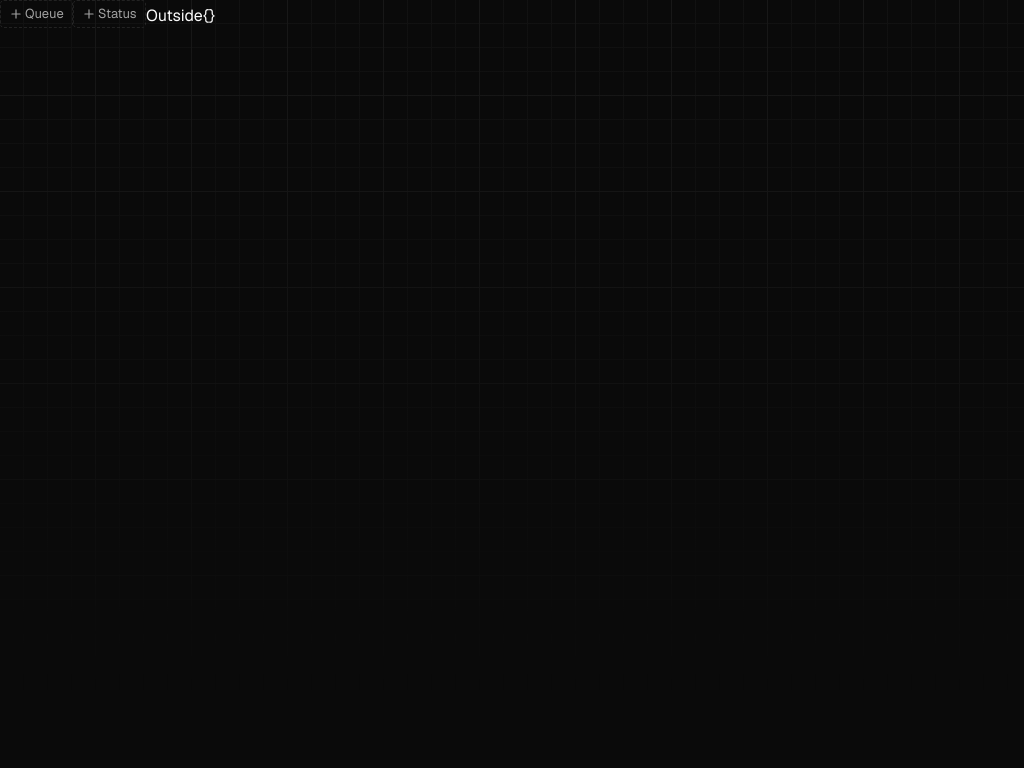
Test case: search › [T] shows 'No matches' when nothing matches
Click the button "Queue": click(48, 14) [25,1,72,27]
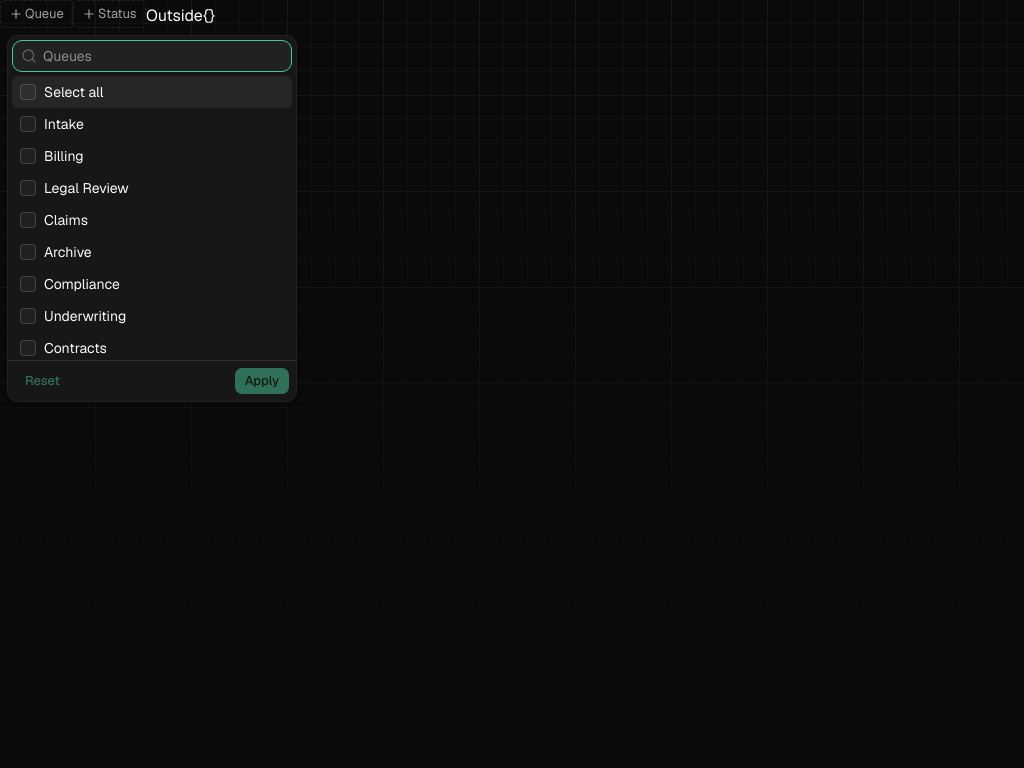
Type keys "zzz"
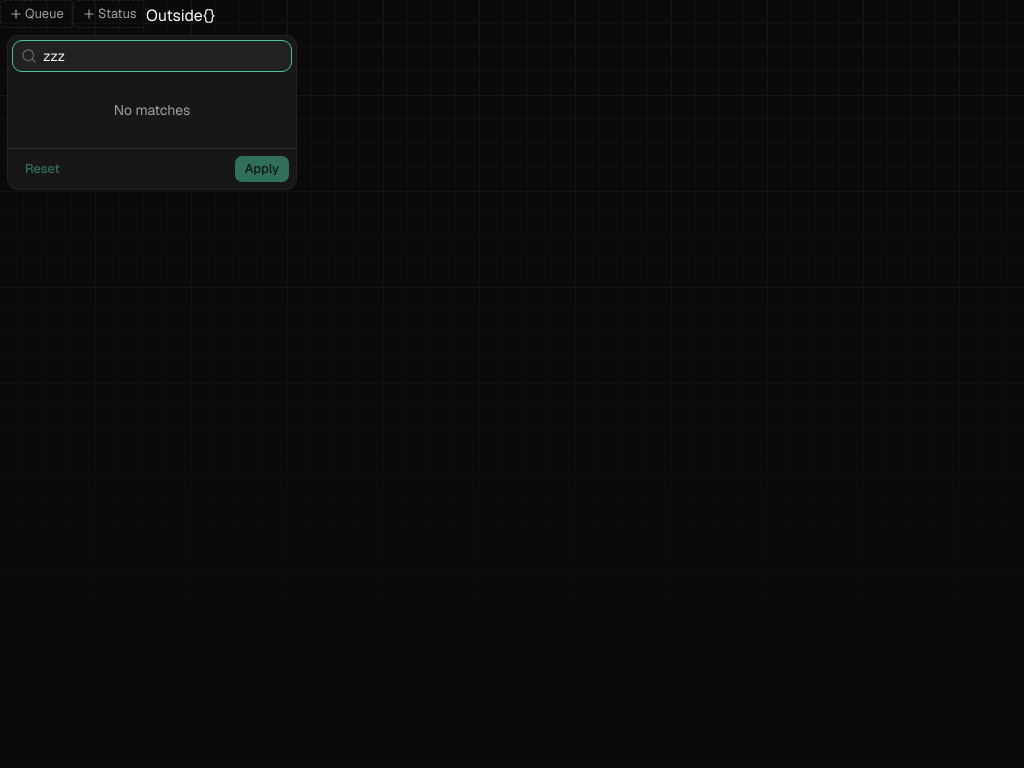
Check: the text "No matches" is shown, box [114,101,190,119]
Check: the option is gone
